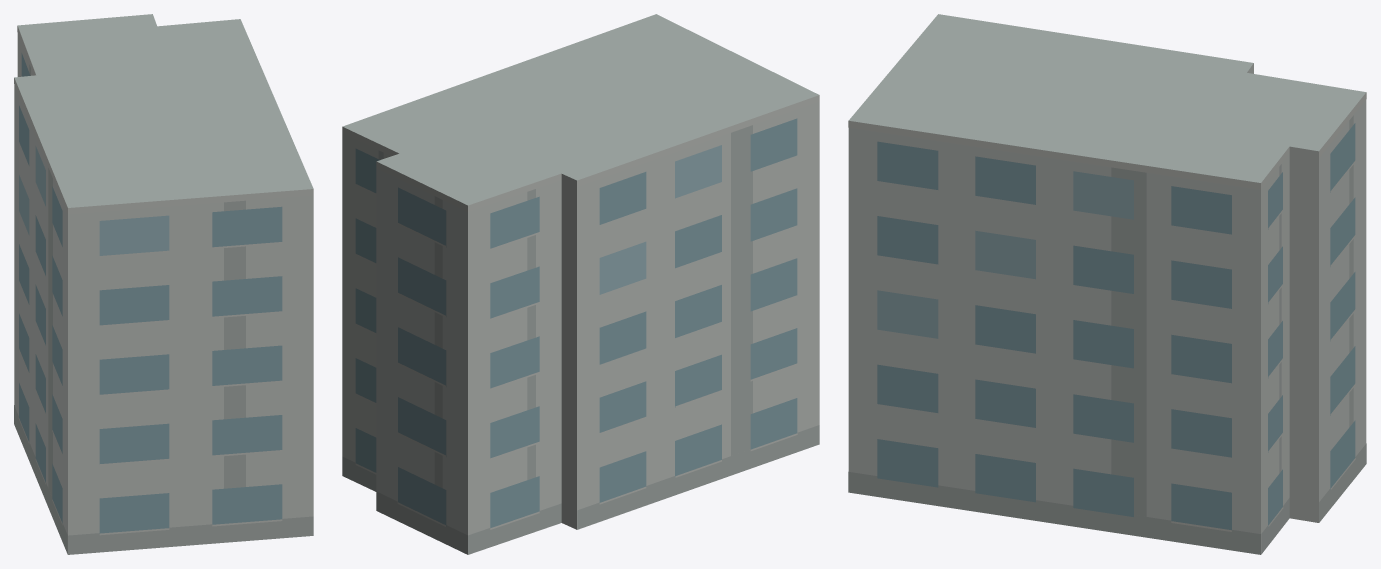
Rendered from survey-upis-32882638.glb.
3 views of the same model, side by side, from view 1: azimuth 30°, elevation 25°; view 2: azimuth 150°, elevation 25°; view 3: azimuth 270°, elevation 25° (orthographic). The views are drawn at different scales.
Visible parts, largest first — view 1: survey-upis-32882638.tmp; view 2: survey-upis-32882638.tmp; view 3: survey-upis-32882638.tmp.
Boxes of the visible parts, box(x1,y1,x2,y2) form: survey-upis-32882638.tmp: box(14, 14, 313, 554); survey-upis-32882638.tmp: box(342, 14, 819, 554); survey-upis-32882638.tmp: box(848, 14, 1366, 554).
Bounding box in the file's own units: 12.69 × 13 × 16.42.
